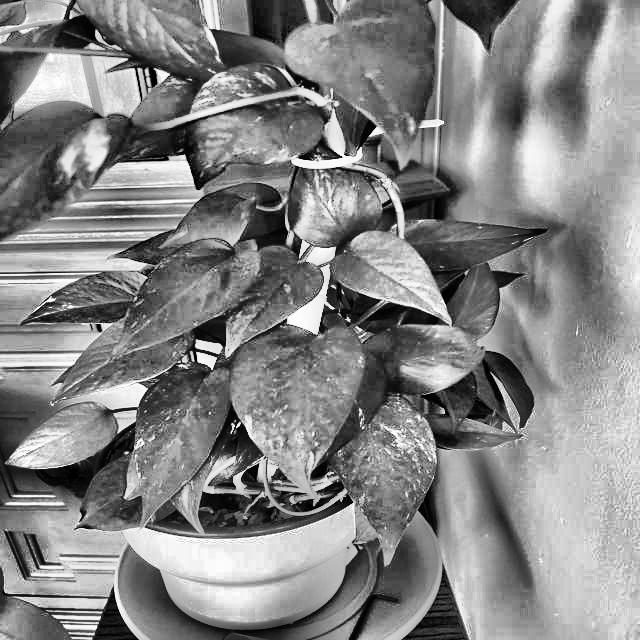plants: (78, 36, 546, 549)
